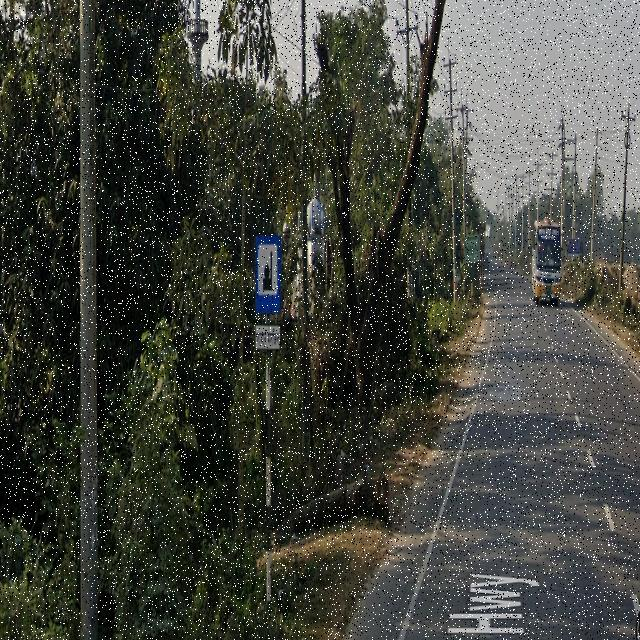Mosque in front: (253, 234, 283, 351)
